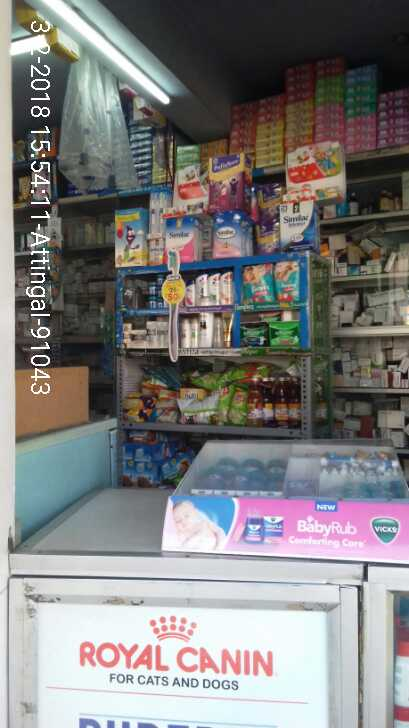vicks: (203, 455, 288, 488), (147, 273, 166, 310)
